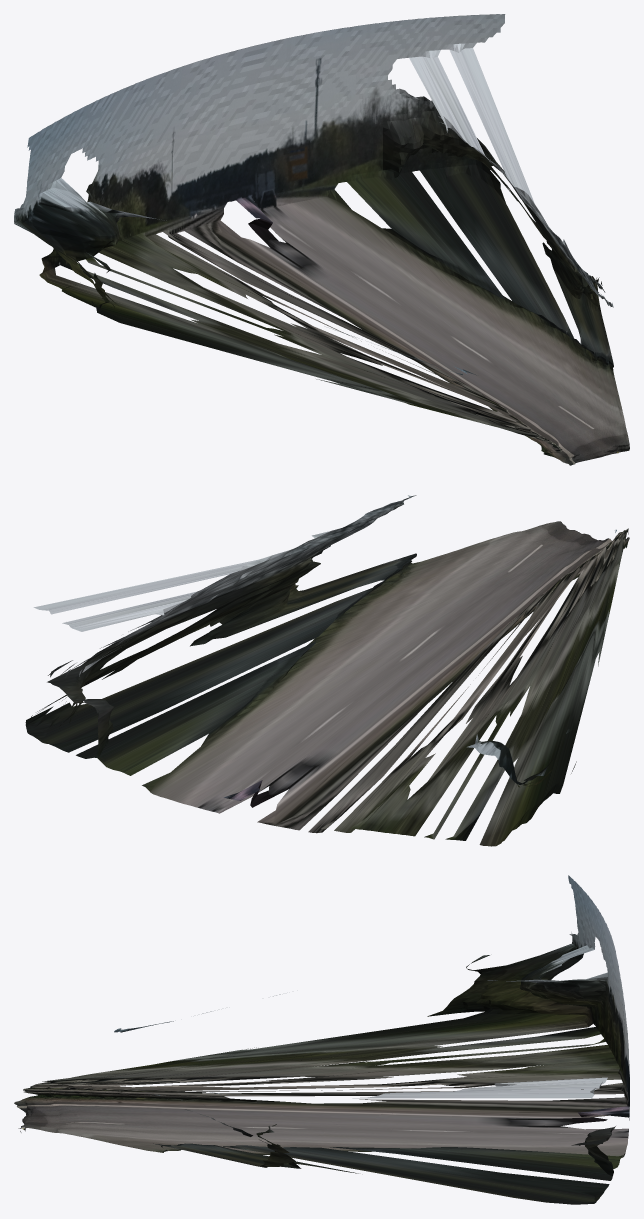
The picture shows the model from 3 angles, top to bottom: view 1: azimuth 30°, elevation 25°; view 2: azimuth 150°, elevation 25°; view 3: azimuth 270°, elevation 25°; orthographic projection. The views are drawn at different scales.
Parts seen in each view (by area): view 1: defaultobject; view 2: defaultobject; view 3: defaultobject.
Part boxes in pixels (x1=…): defaultobject: x1=14, y1=14, x2=629, y2=465; defaultobject: x1=25, y1=495, x2=629, y2=846; defaultobject: x1=14, y1=875, x2=629, y2=1204.
Size of the model in its own units: 36.41 by 12.42 by 44.81.
1 material, 1 textured.
